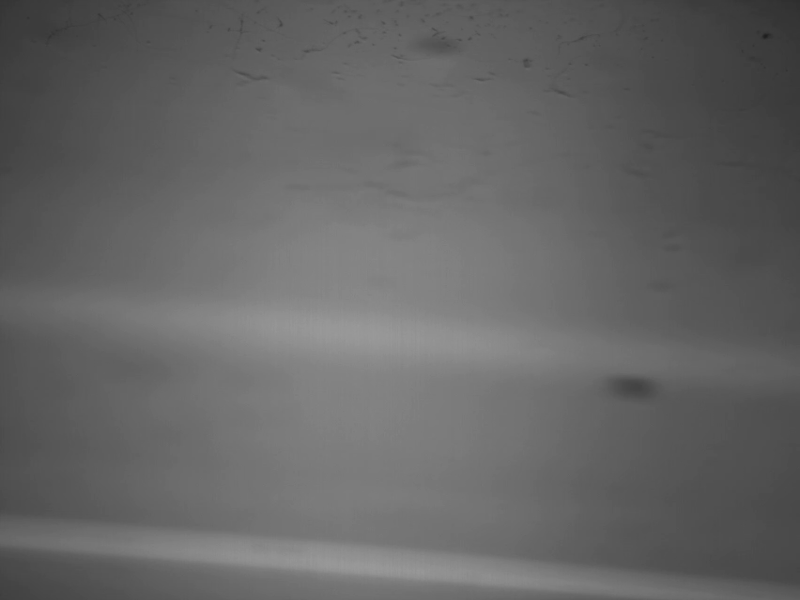bead: (600, 373, 661, 409)
